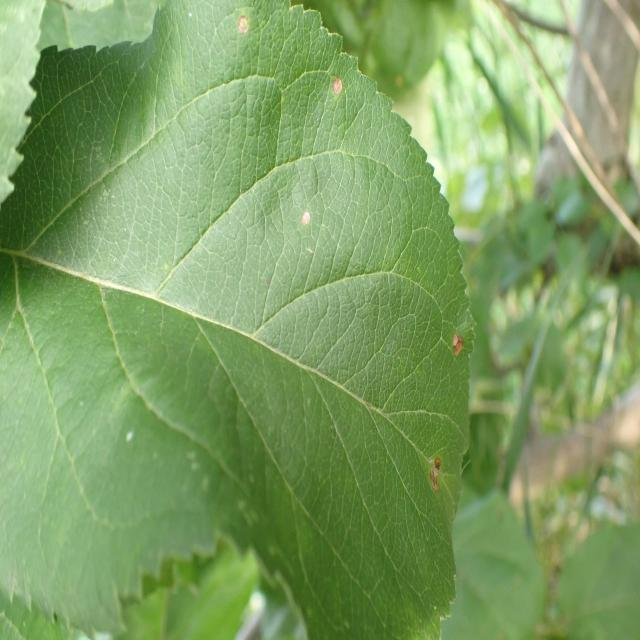Black Rot: (424, 443, 444, 508), (229, 8, 256, 50), (324, 72, 349, 109), (448, 328, 471, 368), (298, 203, 318, 237)
